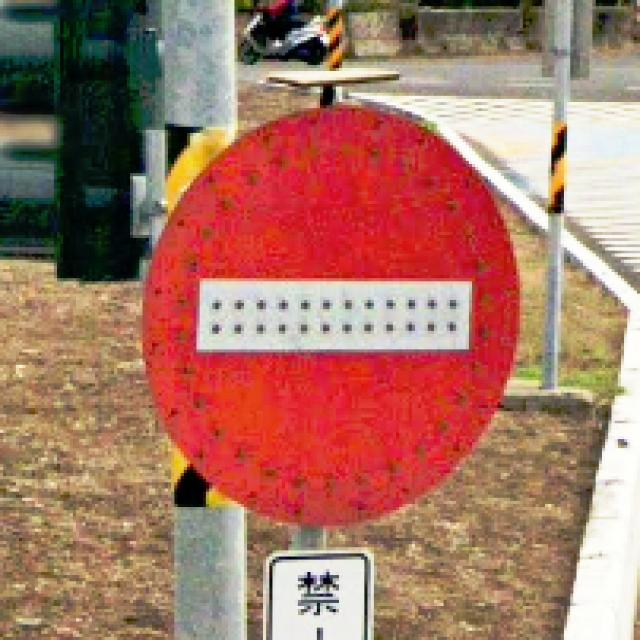noentry: (138, 93, 524, 530)
